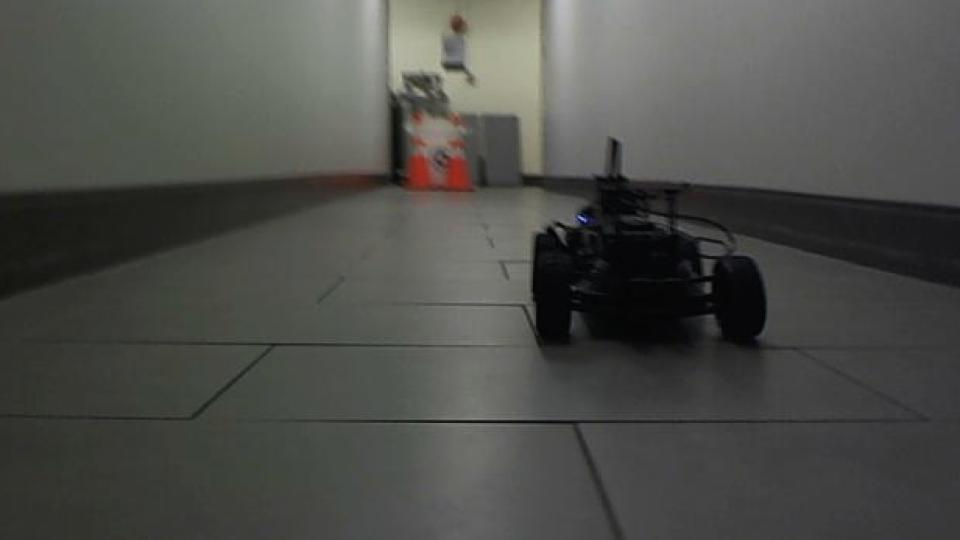car: (527, 136, 770, 348)
